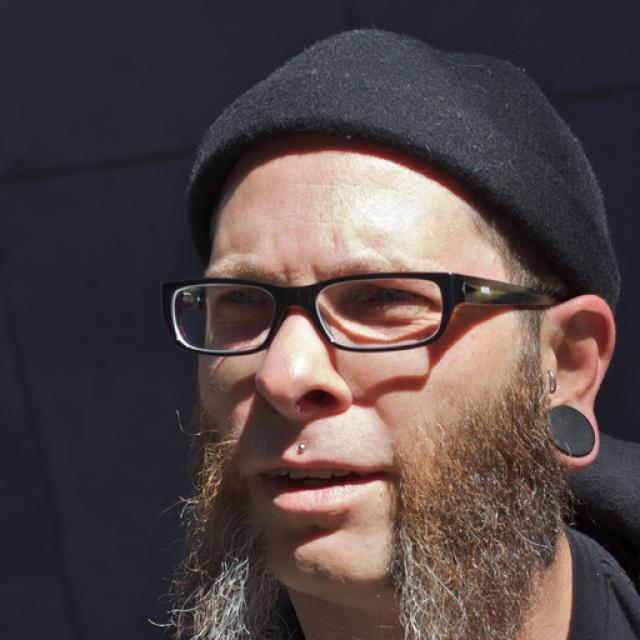sad: (200, 145, 545, 595)
